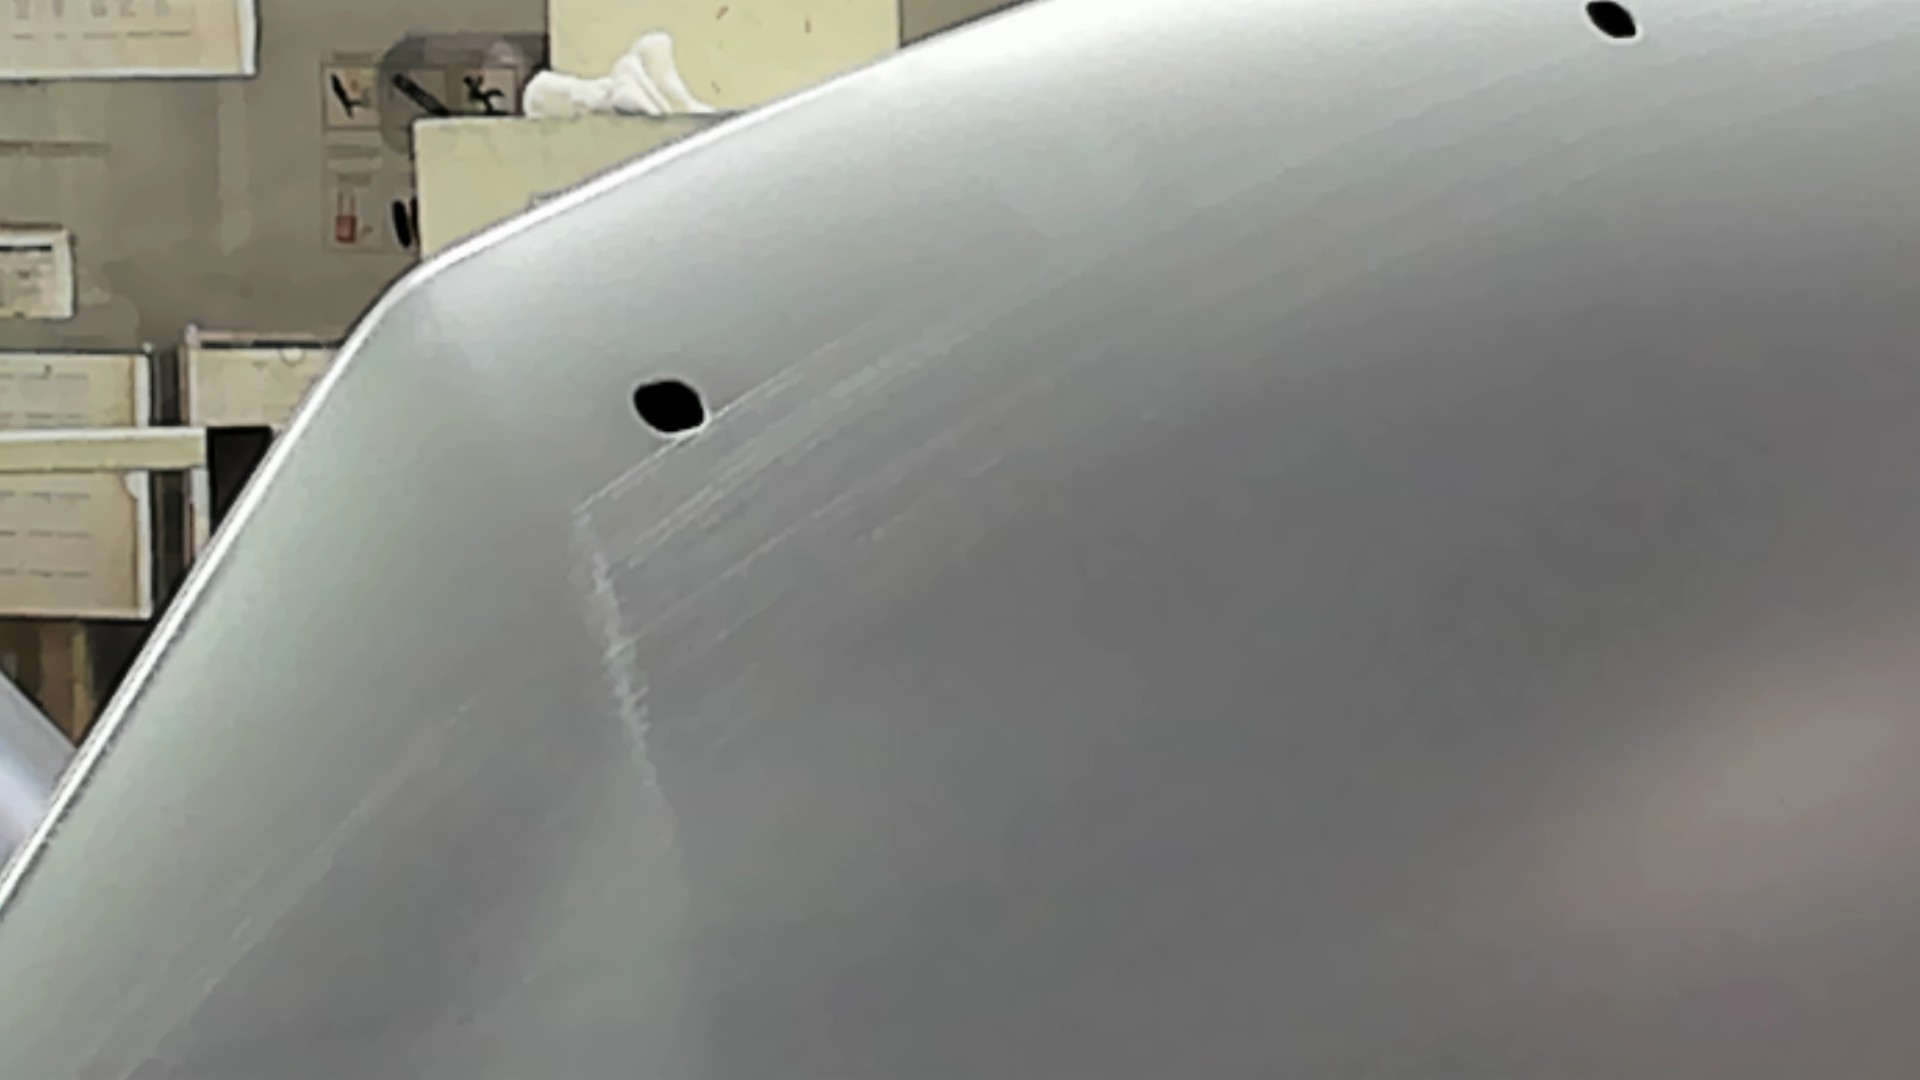amorfo: (632, 376, 713, 438), (1584, 1, 1643, 46)
